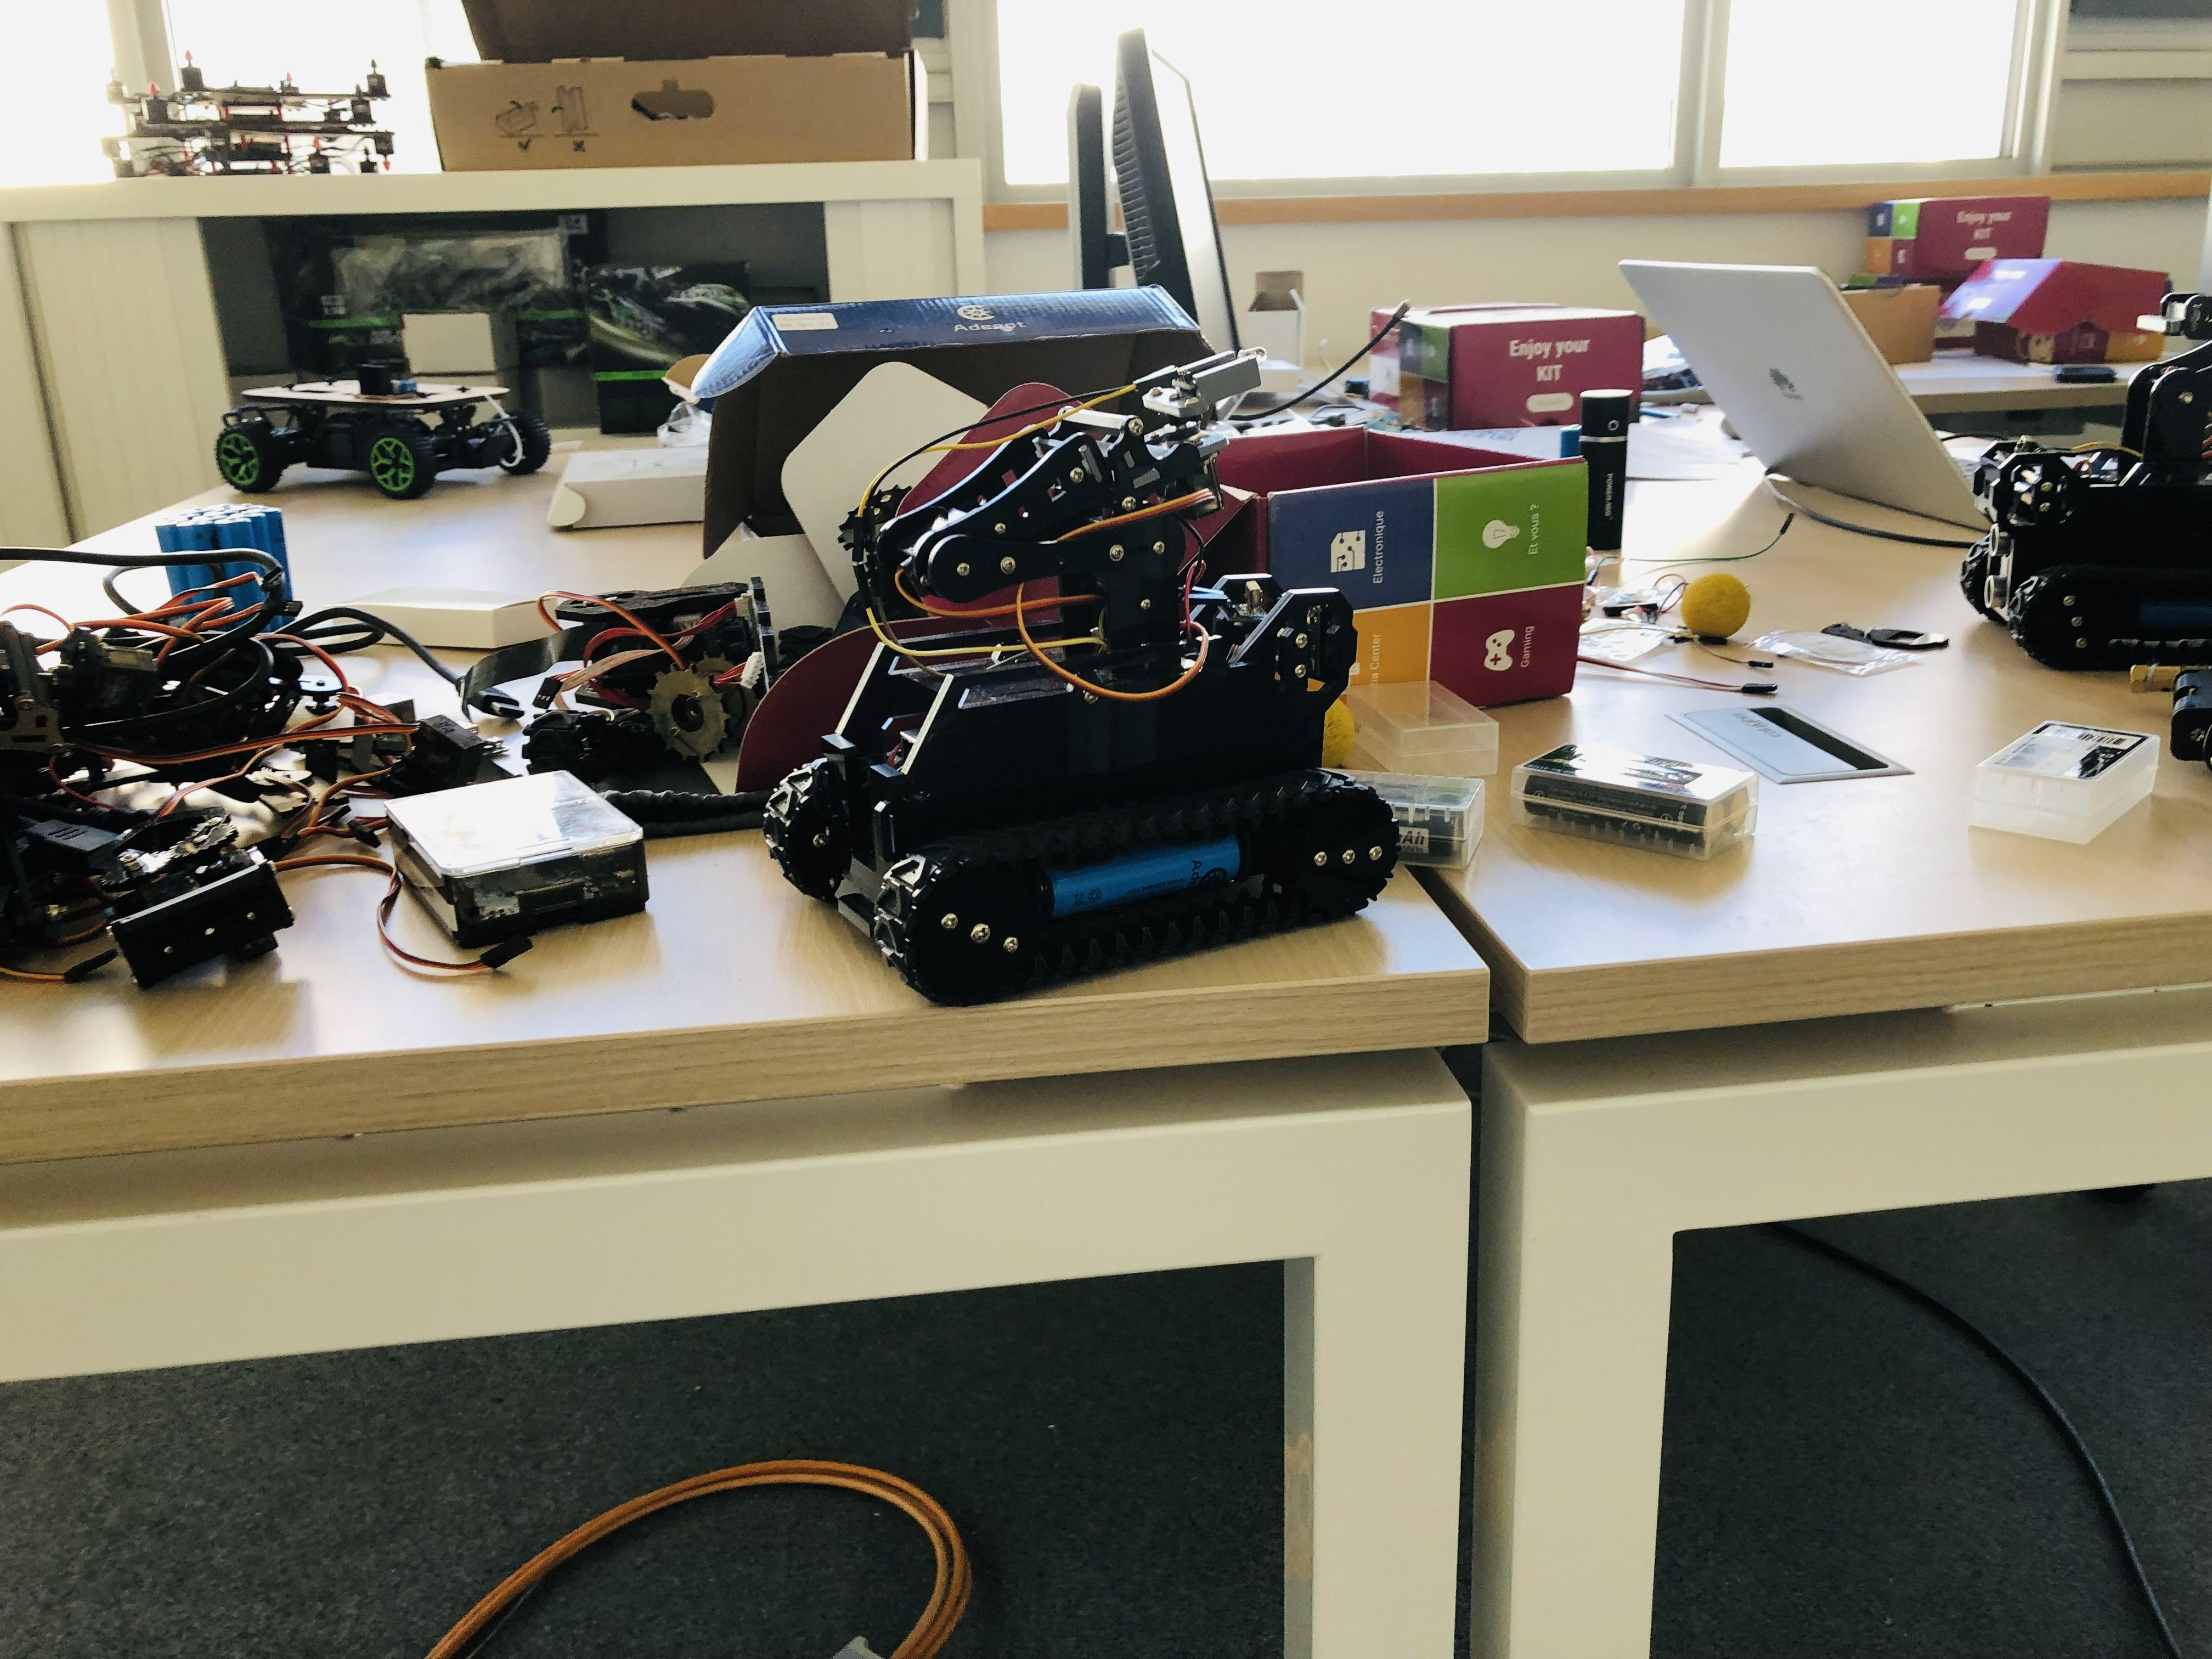rasptank: (765, 343, 1416, 1016)
